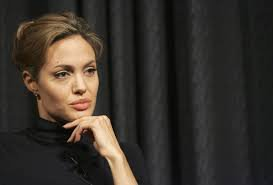noMask: (14, 9, 128, 125)
